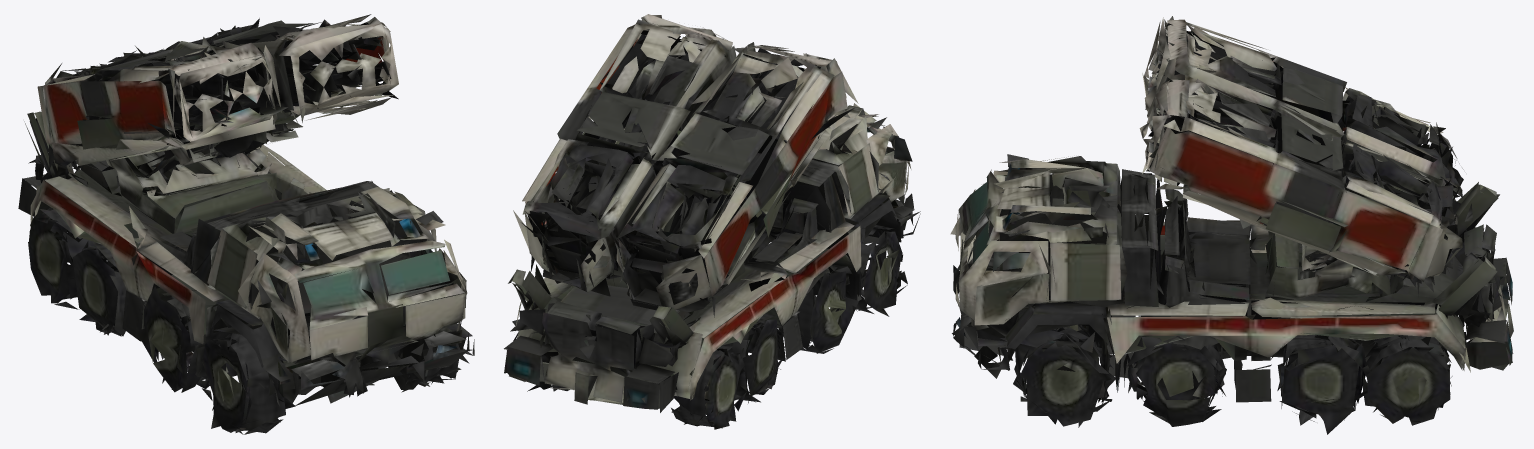
Rendered from longbow.glb.
3 renders of one model, left to right at view 1: azimuth 30°, elevation 25°; view 2: azimuth 150°, elevation 25°; view 3: azimuth 270°, elevation 25°, orthographic. The views are drawn at different scales.
Visible parts, largest first — view 1: Mesh_0; view 2: Mesh_0; view 3: Mesh_0.
Part boxes in pixels (x1,y1,x2,y2): Mesh_0: [18, 14, 474, 434]; Mesh_0: [504, 14, 920, 429]; Mesh_0: [950, 16, 1513, 434].
Bounding box in the file's own units: 0.4938 × 0.6556 × 1.03.
1 material, 1 textured.
